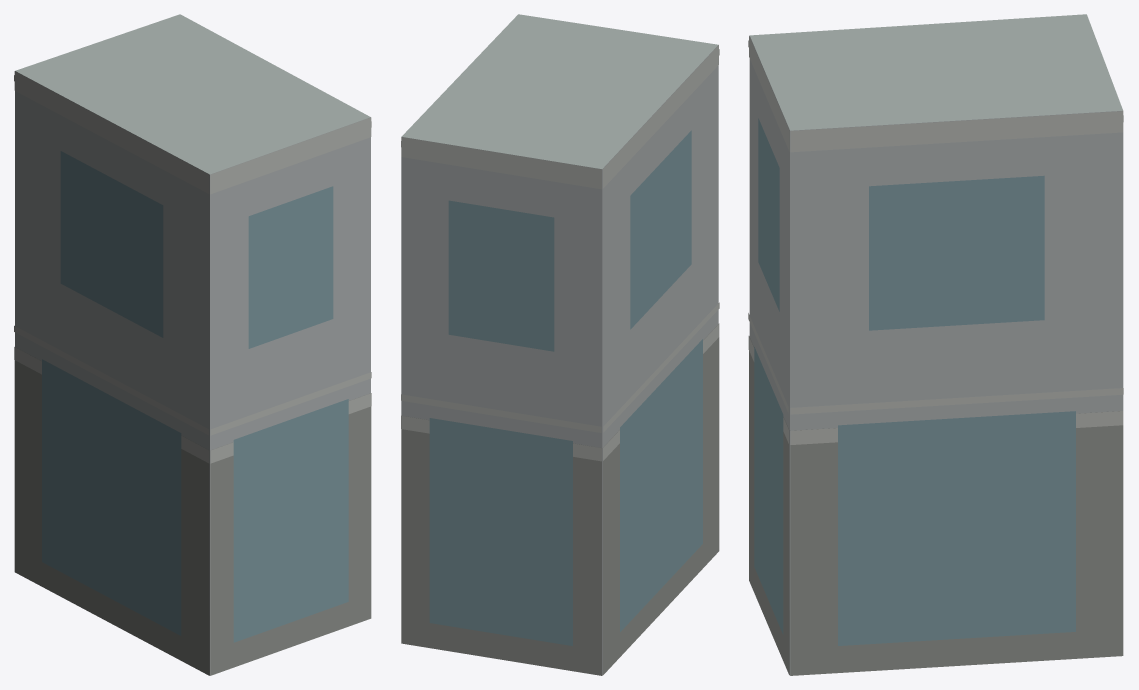
Rendered from survey-upis-32633966.glb.
3 views of the same model, side by side, from view 1: azimuth 30°, elevation 25°; view 2: azimuth 150°, elevation 25°; view 3: azimuth 270°, elevation 25° (orthographic). The views are drawn at different scales.
Visible parts, largest first — view 1: survey-upis-32633966.tmp; view 2: survey-upis-32633966.tmp; view 3: survey-upis-32633966.tmp.
Boxes of the visible parts, <box> form: survey-upis-32633966.tmp: <box>14,14,371,675</box>; survey-upis-32633966.tmp: <box>401,14,719,675</box>; survey-upis-32633966.tmp: <box>748,14,1123,675</box>.
Bounding box in the file's own units: 2.82 × 6.1 × 3.82.
